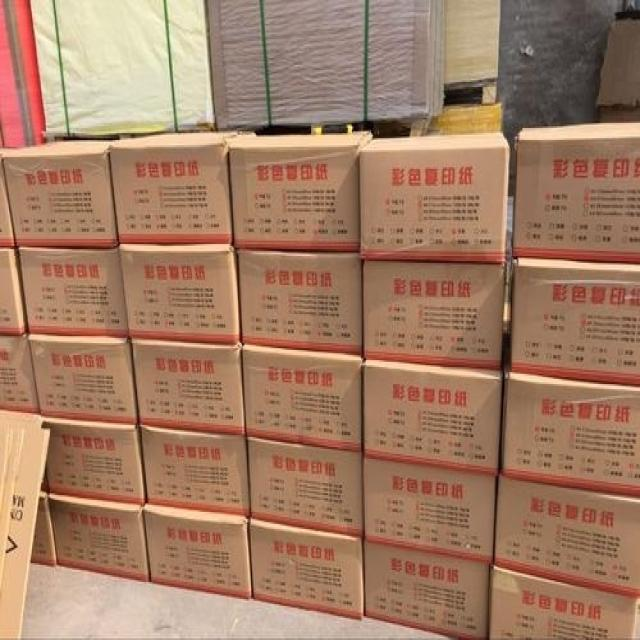box: (205, 1, 445, 128), (29, 1, 217, 141), (360, 134, 510, 261), (501, 366, 639, 495), (513, 123, 639, 263), (494, 476, 639, 596), (507, 258, 639, 387), (229, 133, 374, 249), (2, 136, 150, 248), (362, 360, 503, 474), (363, 259, 504, 371), (109, 132, 245, 243), (363, 458, 498, 565), (237, 248, 363, 357), (240, 345, 362, 452), (364, 538, 492, 638), (118, 243, 239, 344), (246, 519, 364, 620), (247, 437, 364, 538), (0, 411, 50, 638), (129, 340, 245, 435), (486, 568, 639, 638), (142, 503, 253, 599), (140, 423, 252, 518), (20, 249, 129, 339), (28, 334, 138, 423), (40, 415, 148, 503), (48, 495, 151, 581), (0, 1, 45, 147), (597, 16, 639, 106), (0, 336, 40, 414), (0, 247, 27, 335), (30, 493, 55, 568), (0, 155, 17, 248)
